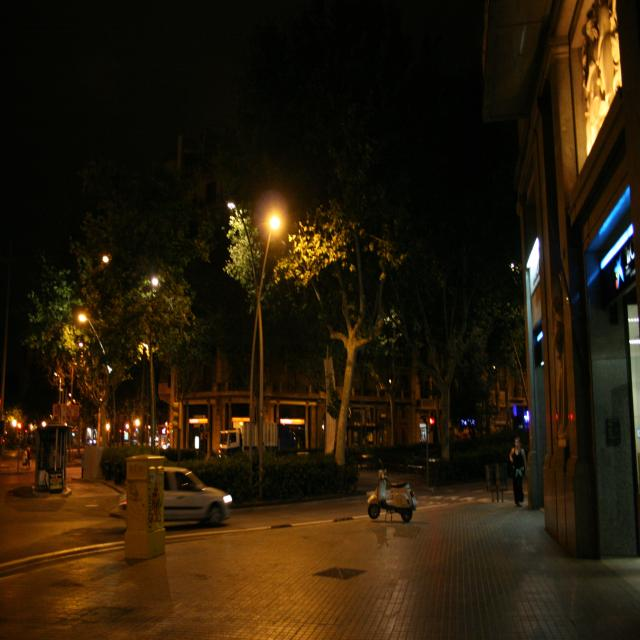Motorbike: (366, 469, 417, 521)
